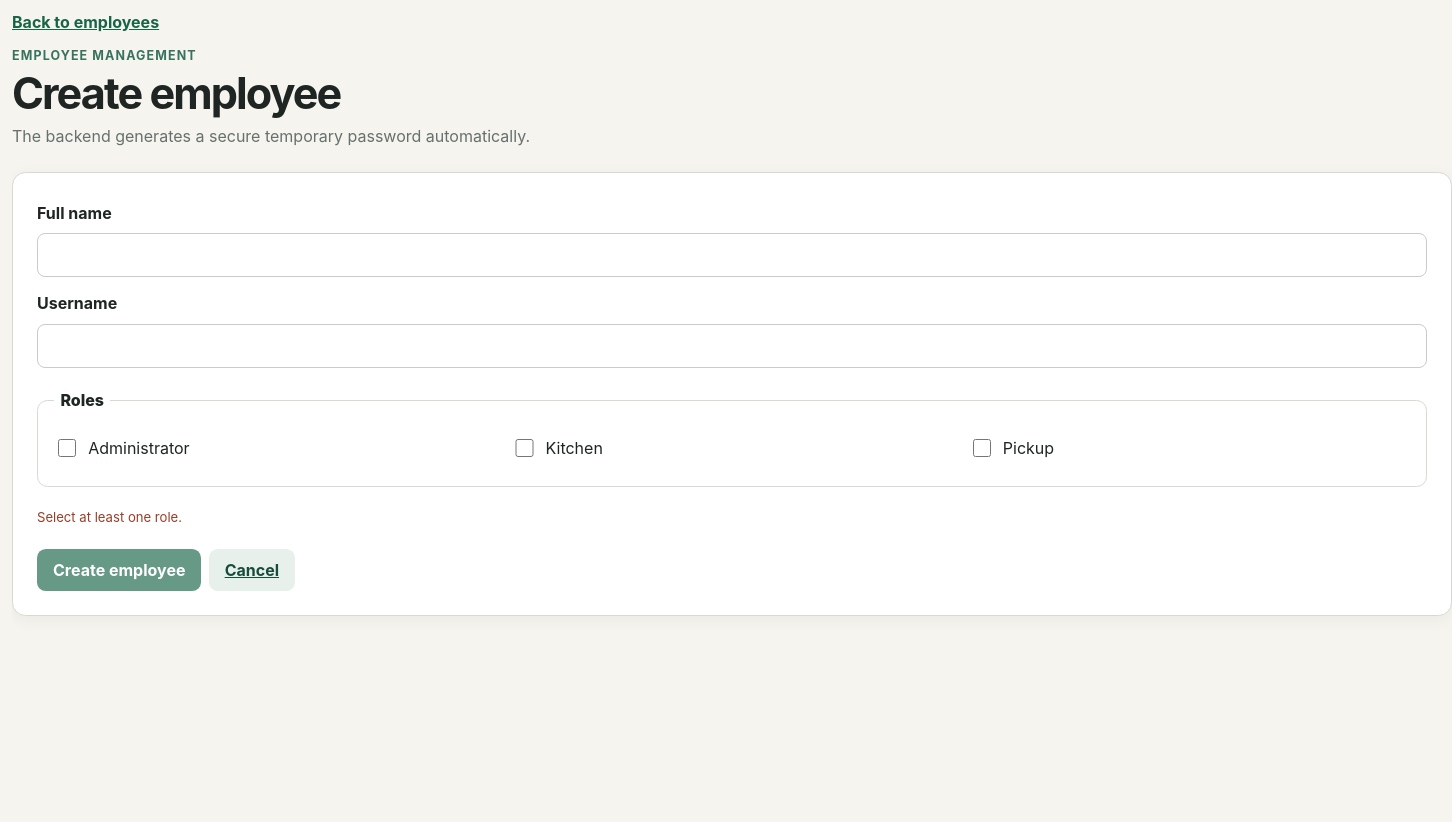
Scenario: employee management administration › creates an employee with multiple roles and shows the password only in local page state
The width and height of the screenshot is (1452, 822).
Expected: the heading "Create employee" is shown, x1=12 y1=67 x2=340 y2=119
Type "Aziz Karimov" into the field labelled "Full name". click: x=732, y=255
box: x1=37 y1=233 x2=1427 y2=277
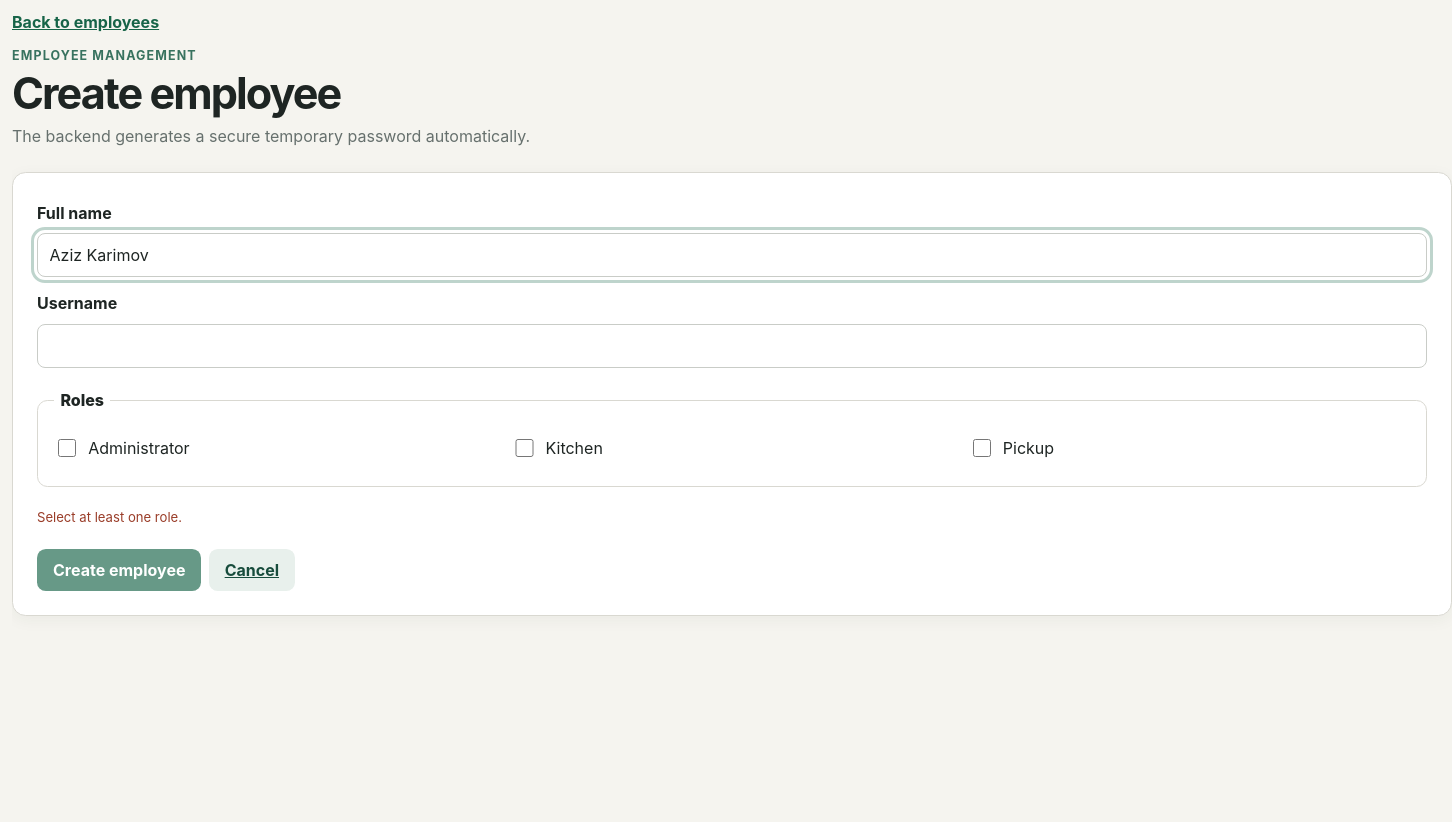
Type "aziz.k" into the field labelled "Username". click: x=732, y=346
box: x1=37 y1=324 x2=1427 y2=368
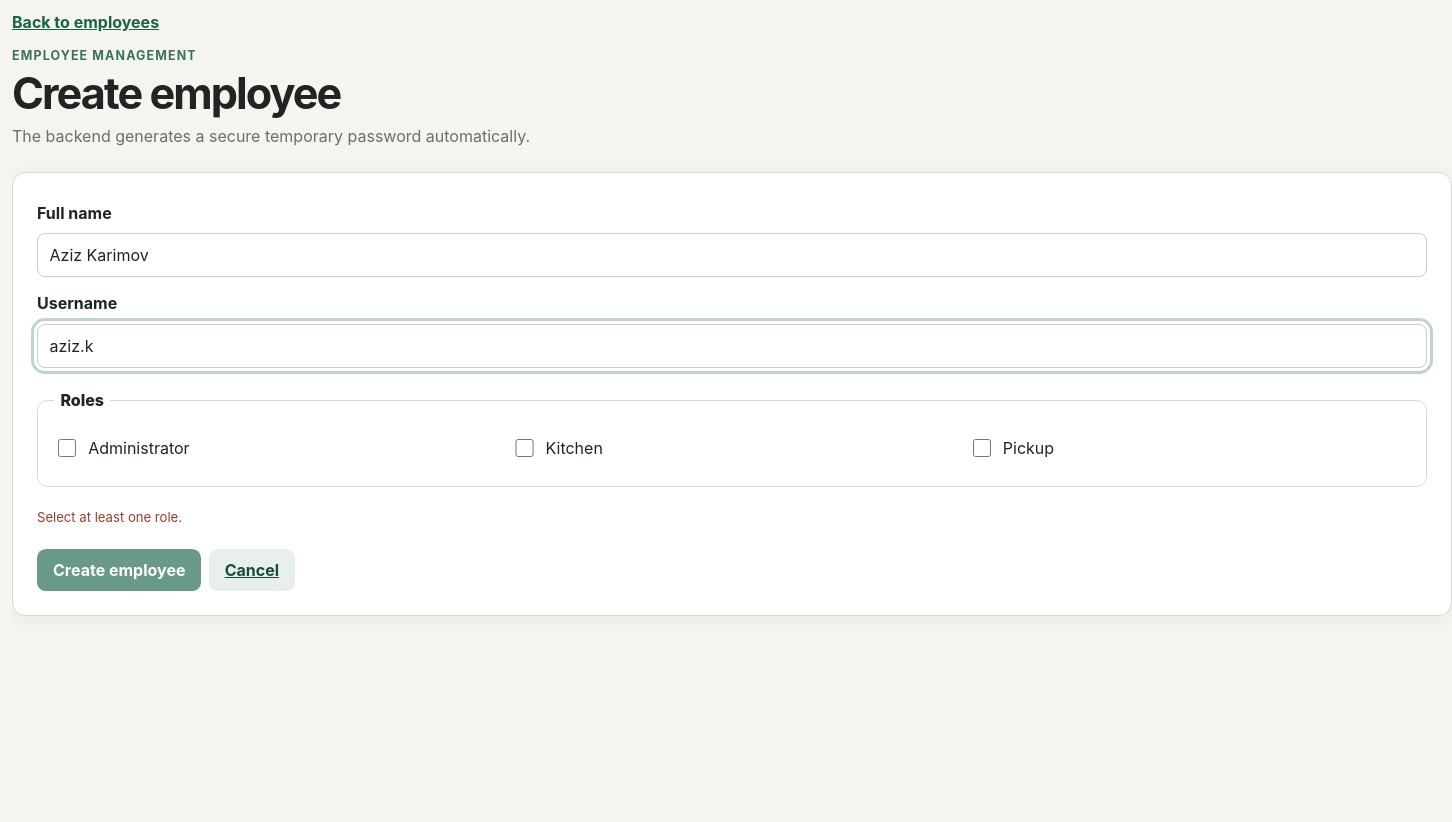
Click the checkbox labelled "Kitchen". click: x=524, y=448
box: x1=515 y1=439 x2=534 y2=457
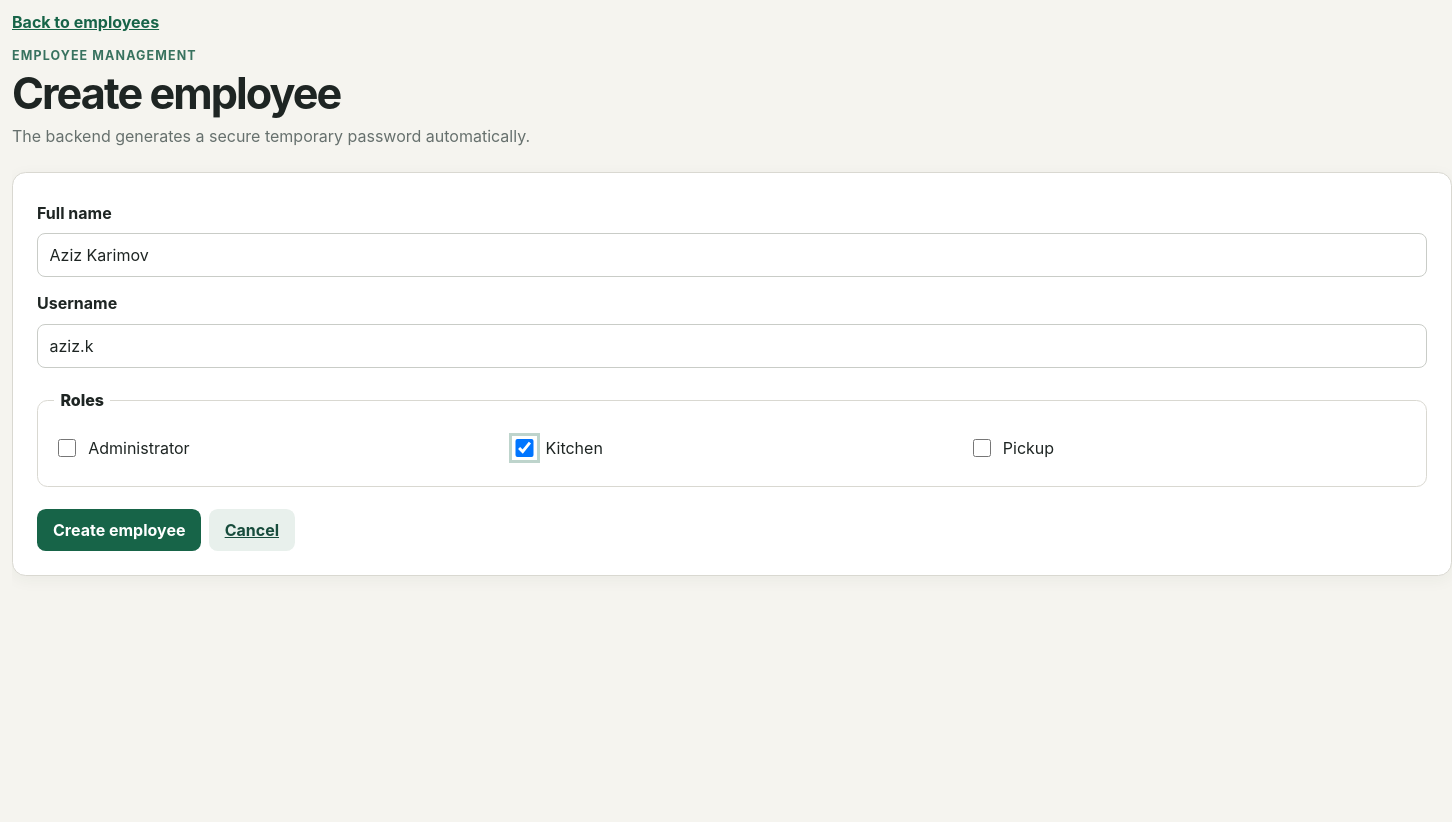
Click the checkbox labelled "Pickup". click: x=982, y=448
box: x1=973 y1=439 x2=991 y2=457
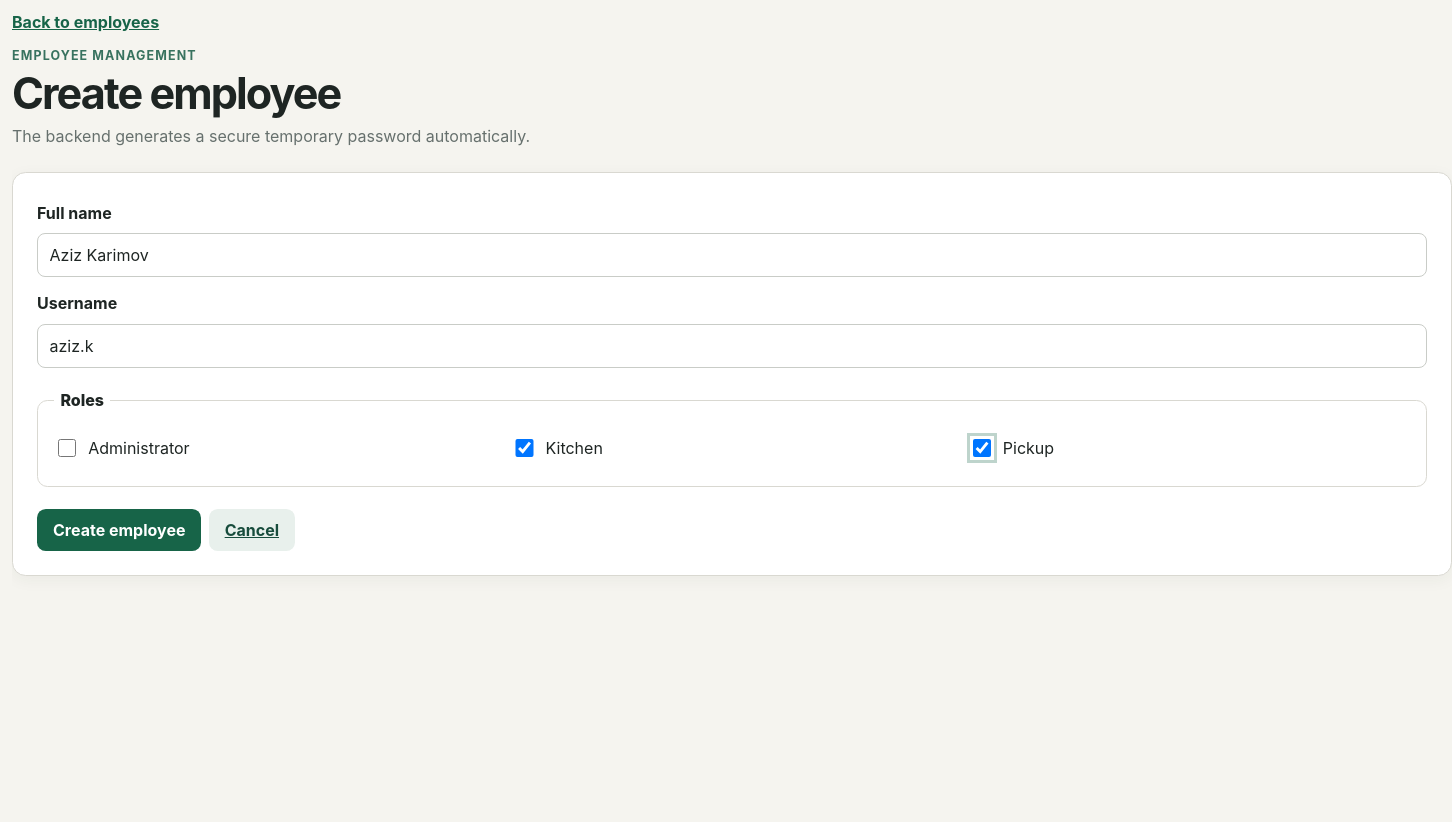
Click the button "Create employee". click: x=119, y=530
box: x1=37 y1=510 x2=202 y2=551
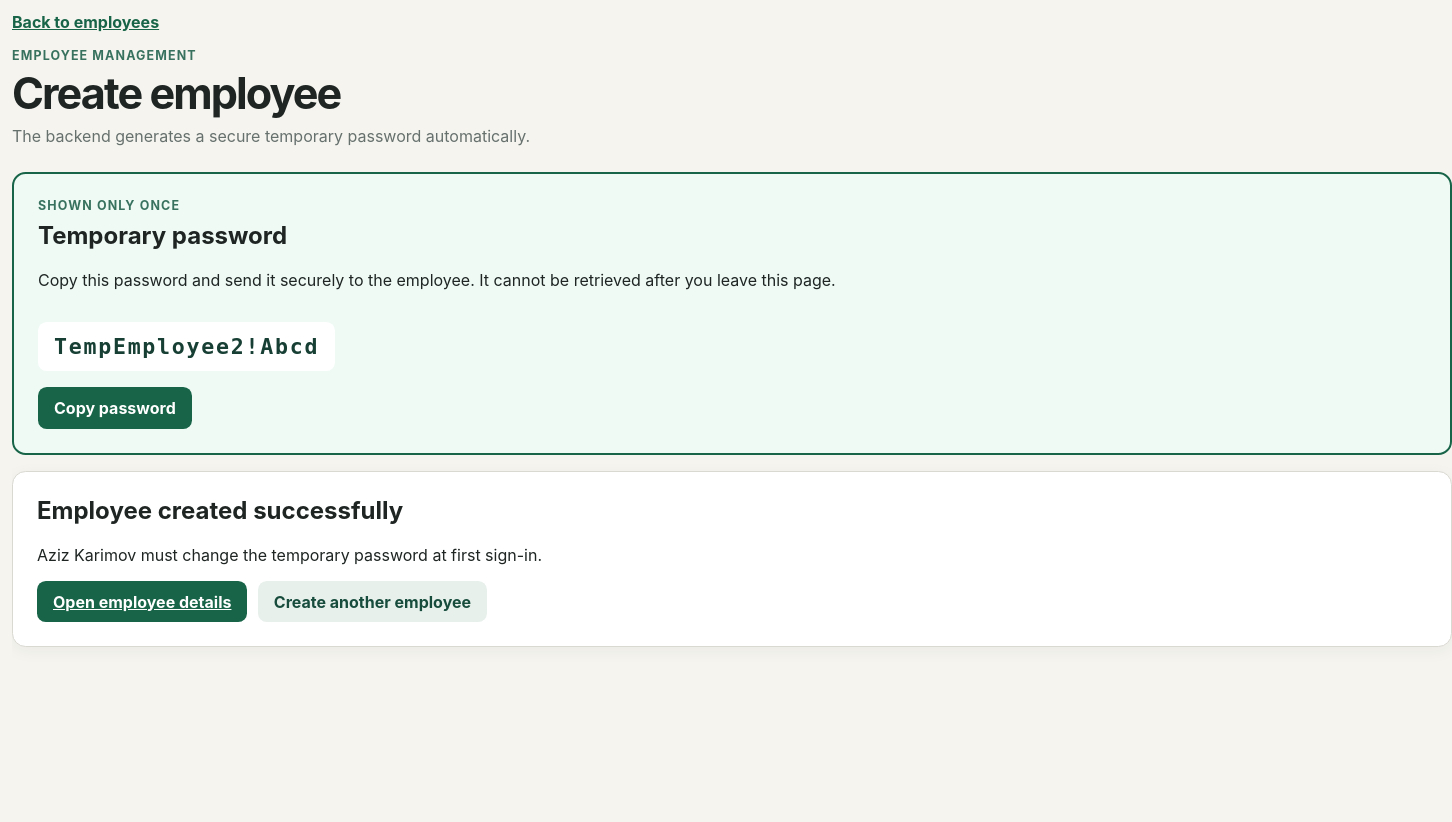
Now the text "TempEmployee2!Abcd" is shown, box x1=38 y1=322 x2=335 y2=371
Now the text "Shown only once" is shown, box x1=38 y1=198 x2=180 y2=213
Click the button "Copy password". click: x=115, y=408
box: x1=38 y1=387 x2=192 y2=429
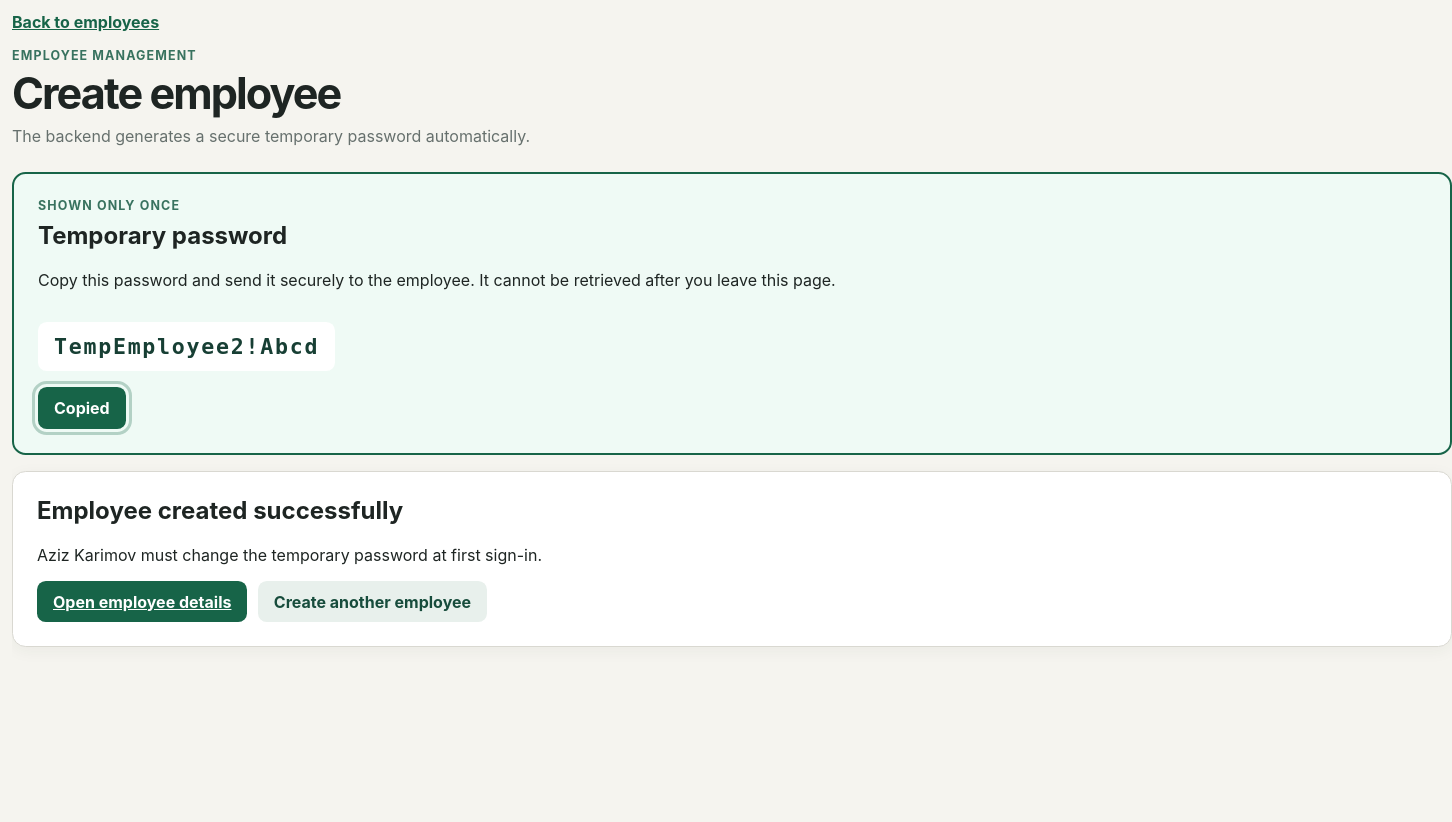
Now the button "Copied" is shown, box x1=38 y1=387 x2=126 y2=429
